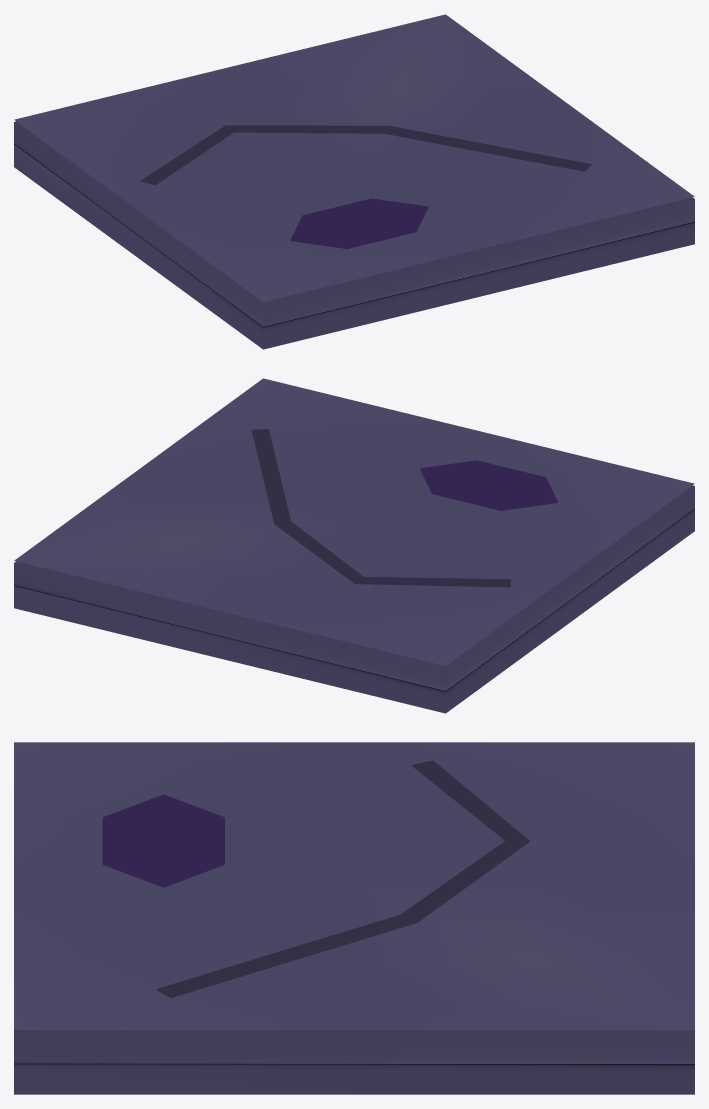
The model's file is tile_asphalt_b.glb.
The picture shows the model from 3 angles, top to bottom: view 1: azimuth 30°, elevation 25°; view 2: azimuth 150°, elevation 25°; view 3: azimuth 270°, elevation 25°; orthographic projection. The views are drawn at different scales.
Parts seen in each view (by area): view 1: Tile.001; view 2: Tile.001; view 3: Tile.001.
Part boxes in pixels (x1,y1,x2,y2): Tile.001: (14,14,694,349); Tile.001: (14,378,694,713); Tile.001: (14,742,694,1094).
Bounding box in the file's own units: 1 × 0.109 × 1.
